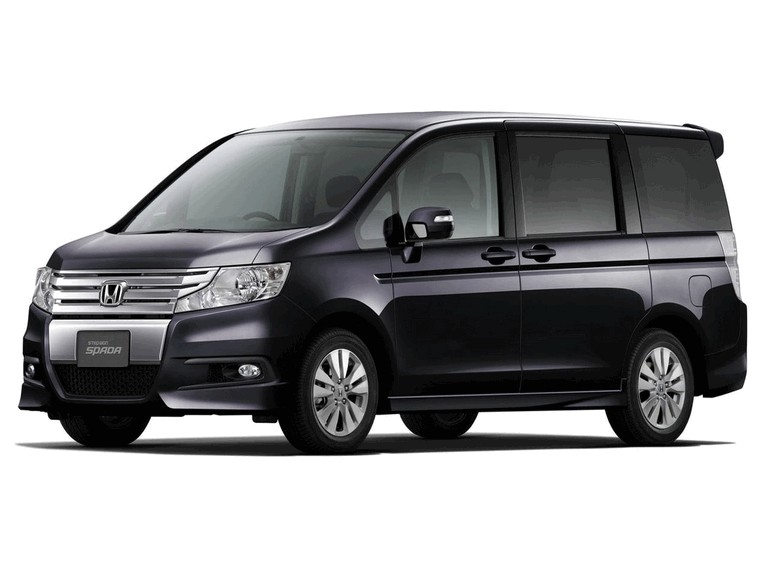van: (17, 108, 750, 452)
